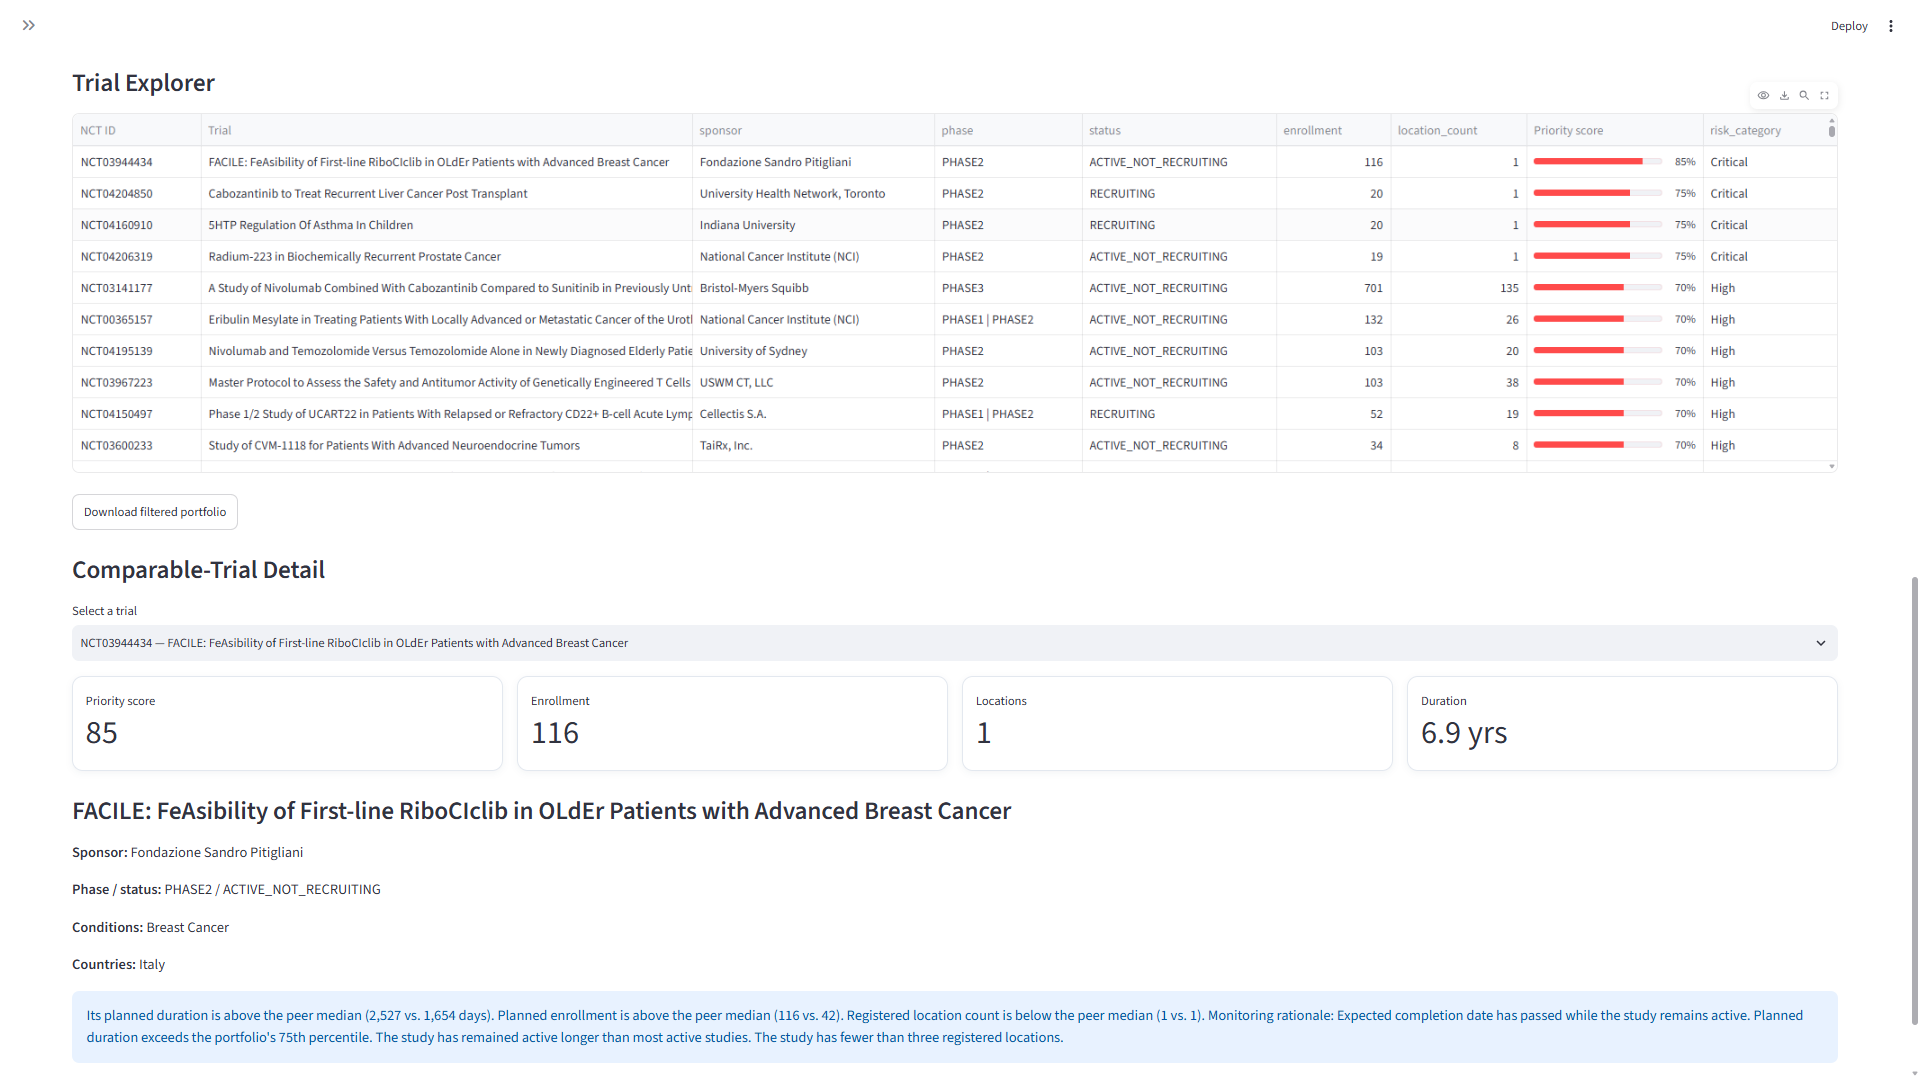

Layout of this report page (visuals, bound fields, positions):
{"tool":"powerbi","page":{"name":"Trial Explorer","canvas":[1280,720],"ordinal":4},"visuals":[{"type":"cardVisual","fields":{"Data":["_Measures.Selected Trial Risk Score"]},"box":[0,156.2,239.7,98.8],"z":0},{"type":"cardVisual","fields":{"Data":["_Measures.Selected Trial Priority Category"]},"box":[239.7,156.2,187.6,98.8],"z":1000},{"type":"cardVisual","fields":{"Data":["_Measures.Selected Trial Enrollment Display"]},"box":[427,156.9,262.7,98.4],"z":2000},{"type":"cardVisual","fields":{"Data":["_Measures.Selected Trial Locations"]},"box":[689.7,155,195.7,98.8],"z":3000},{"type":"cardVisual","fields":{"Data":["_Measures.Selected Trial Countries"]},"box":[884.6,155.9,159.7,98.4],"z":4000},{"type":"cardVisual","fields":{"Data":["_Measures.Selected Trial Duration Display"]},"box":[1044.1,156.2,236.1,98.8],"z":5000},{"type":"tableEx","title":"Selected Trial Summary","fields":{"Values":["Trials.brief_title","Trials.sponsor","Trials.phase_clean","Trials.status_group"]},"box":[0,255,626.6,203.8],"z":6000},{"type":"tableEx","title":"Monitoring Rationale","fields":{"Values":["Trials.risk_reasons"]},"box":[0,458.8,626.6,211],"z":7000},{"type":"tableEx","title":"Clinical & Geographic Context","fields":{"Values":["Trials.conditions","Trials.interventions","Trials.countries"]},"box":[626.6,458.8,653.6,211],"z":8000},{"type":"tableEx","title":"Study Timeline & Registry Activity","fields":{"Values":["_Measures.Selected Start Date Display","_Measures.Selected Primary Completion Display","_Measures.Selected Completion Date Display","_Measures.Selected Last Registry Update Display"]},"box":[626.6,255,653.6,203.8],"z":9000},{"type":"slicer","title":"Phase","fields":{"Values":["Trials.phase_clean"]},"box":[529.7,79,265,76.8],"z":10000},{"type":"slicer","title":"Sponsor","fields":{"Values":["Trials.sponsor"]},"box":[264.8,79.9,264.8,76.3],"z":11000},{"type":"slicer","title":"Trial Status","fields":{"Values":["Trials.status_group"]},"box":[794.5,79,265,76.8],"z":12000},{"type":"cardVisual","title":"Data Through","fields":{"Data":["_Measures.Latest Registry Update"]},"box":[1058.5,79.9,221.7,76.3],"z":13000},{"type":"textbox","title":"Trial Explorer & Monitoring Detail","box":[0,0,1280,79.8],"z":14000},{"type":"textbox","box":[0,669.9,1281,50.3],"z":15000},{"type":"slicer","title":"NCT ID","fields":{"Values":["Trials.nct_id"]},"box":[0,79,265,76.8],"z":16000},{"type":"actionButton","box":[1058.2,19.5,199.3,40.4],"z":17000}]}

Visuals, with their boxes in screenshot pixels (x1, y1, x2, y2), scaled from the page's 1280x720 canvas onto the 1918x1077 screenshot:
cardVisual - _Measures.Selected Trial Risk Score: 0/234/359/381
cardVisual - _Measures.Selected Trial Priority Category: 359/234/640/381
cardVisual - _Measures.Selected Trial Enrollment Display: 640/235/1033/382
cardVisual - _Measures.Selected Trial Locations: 1033/232/1327/380
cardVisual - _Measures.Selected Trial Countries: 1326/233/1565/380
cardVisual - _Measures.Selected Trial Duration Display: 1565/234/1917/381
"Selected Trial Summary" tableEx: 0/381/939/686
"Monitoring Rationale" tableEx: 0/686/939/1002
"Clinical & Geographic Context" tableEx: 939/686/1917/1002
"Study Timeline & Registry Activity" tableEx: 939/381/1917/686
"Phase" slicer: 794/118/1191/233
"Sponsor" slicer: 397/120/794/234
"Trial Status" slicer: 1191/118/1588/233
"Data Through" cardVisual: 1586/120/1917/234
"Trial Explorer & Monitoring Detail" textbox: 0/0/1917/119
textbox: 0/1002/1917/1076
"NCT ID" slicer: 0/118/397/233
actionButton: 1586/29/1884/90
